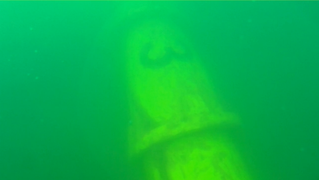3: (139, 40, 193, 69)
pipe: (110, 1, 252, 179)
